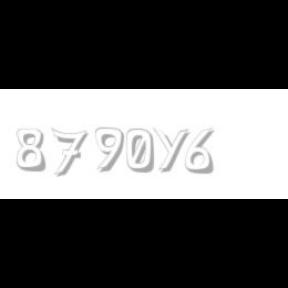0: (127, 128, 158, 174)
6: (184, 128, 214, 176)
7: (52, 128, 88, 178)
8: (16, 128, 46, 172)
9: (96, 128, 124, 172)
y: (153, 128, 193, 172)
